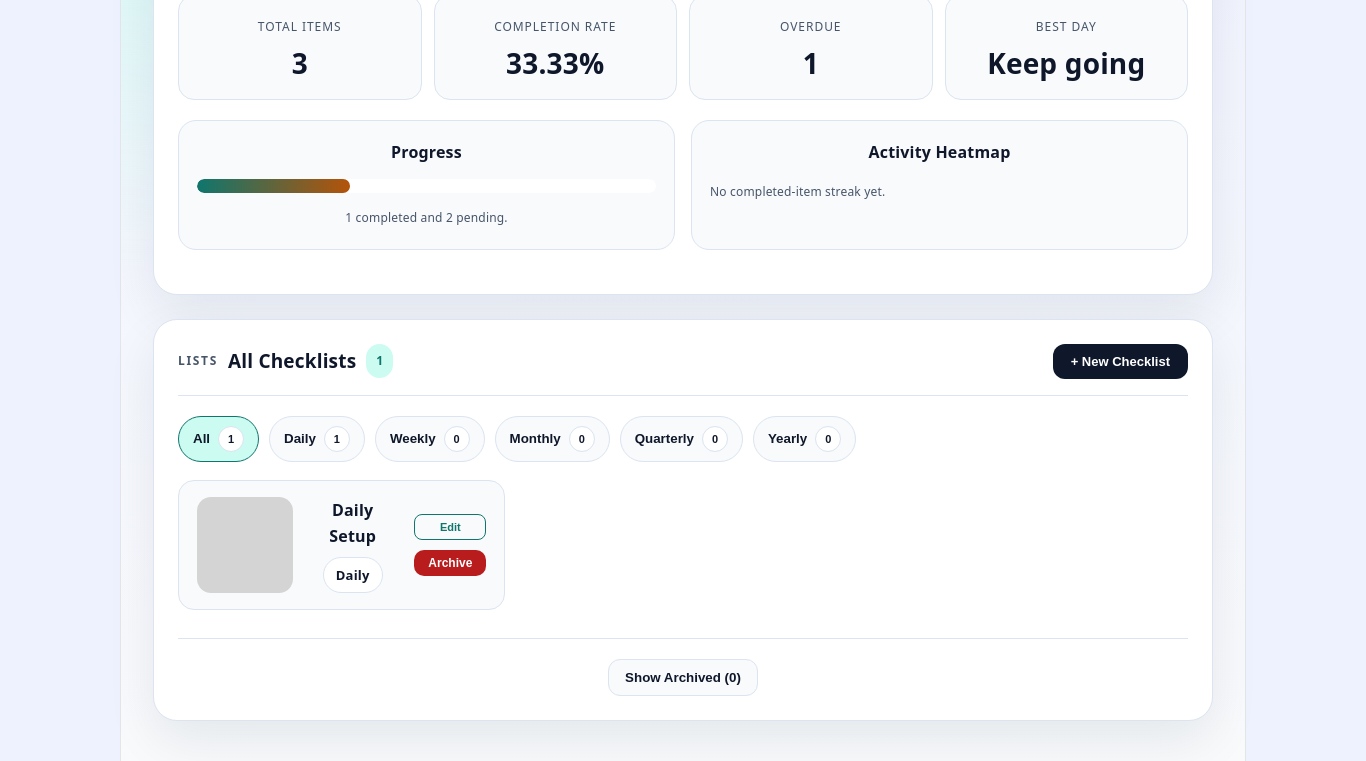
Test: Dashboard › edits a checklist and supports removing its image
(page scrolled)
Check: the text "Daily Setup" is shown, box [329,499,376,547]
Click the button "Edit". click: point(450, 527)
box: [414,514,486,540]
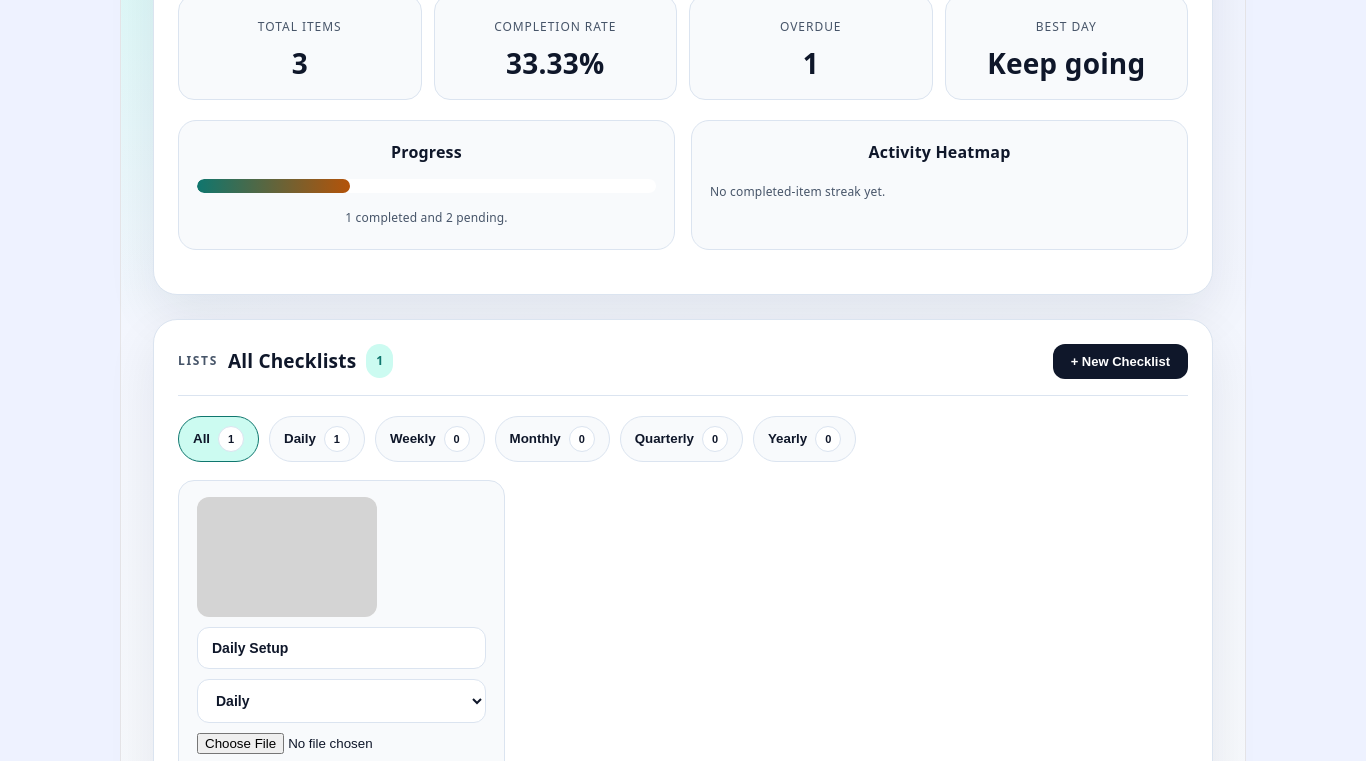
Replace the text in the field showing "Daily Setup" with "Morning Setup". click: point(342, 648)
box: [197,627,486,669]
(page scrolled)
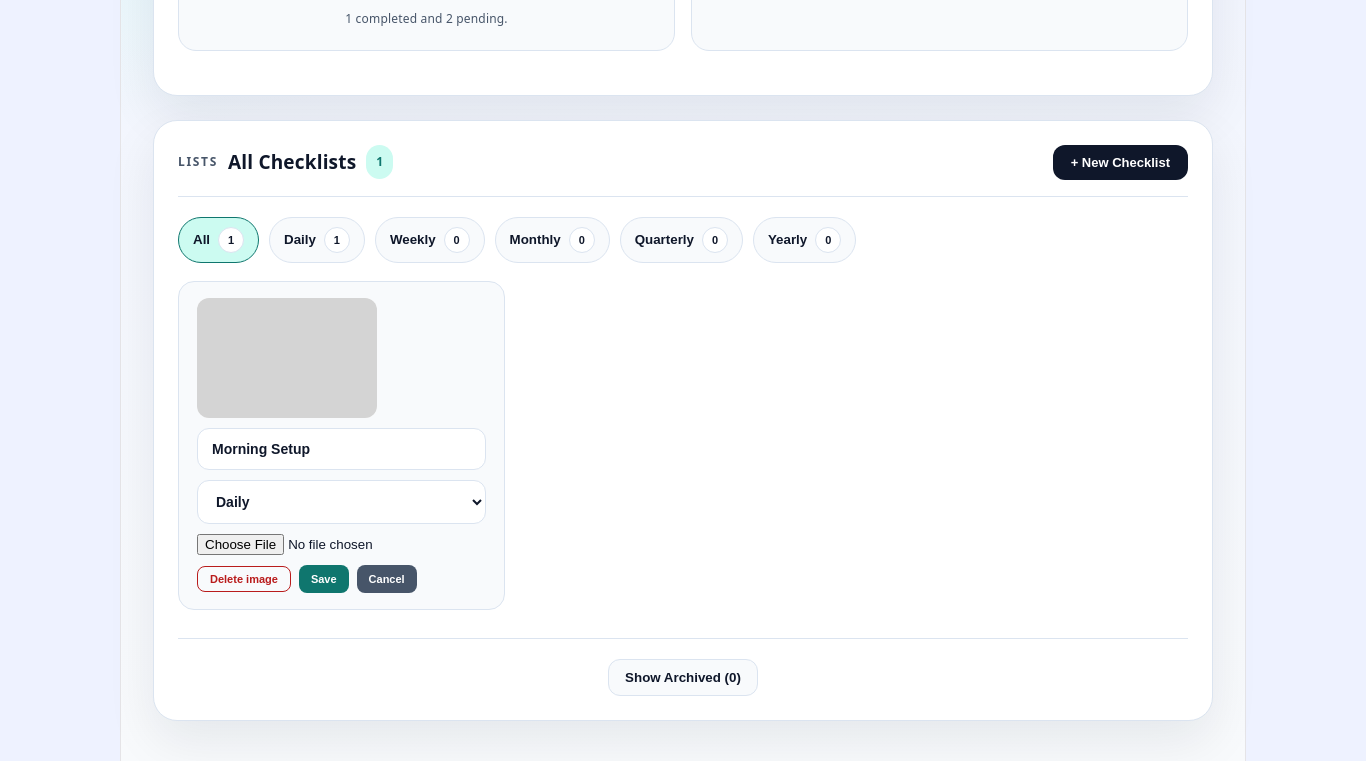
Click the button "Delete image". click: point(244, 579)
box: [197,566,291,592]
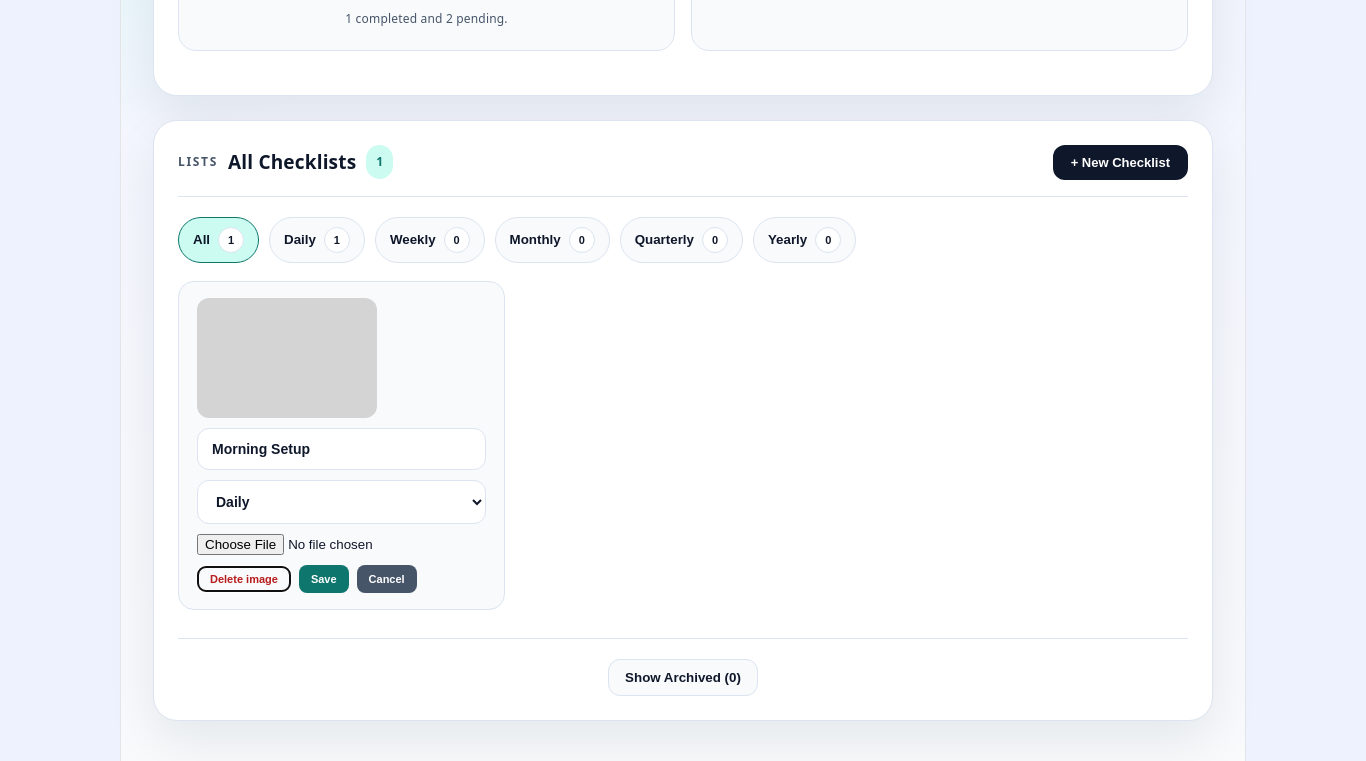
Click the button "Save". click: point(324, 579)
box: [299,565,349,593]
(page scrolled)
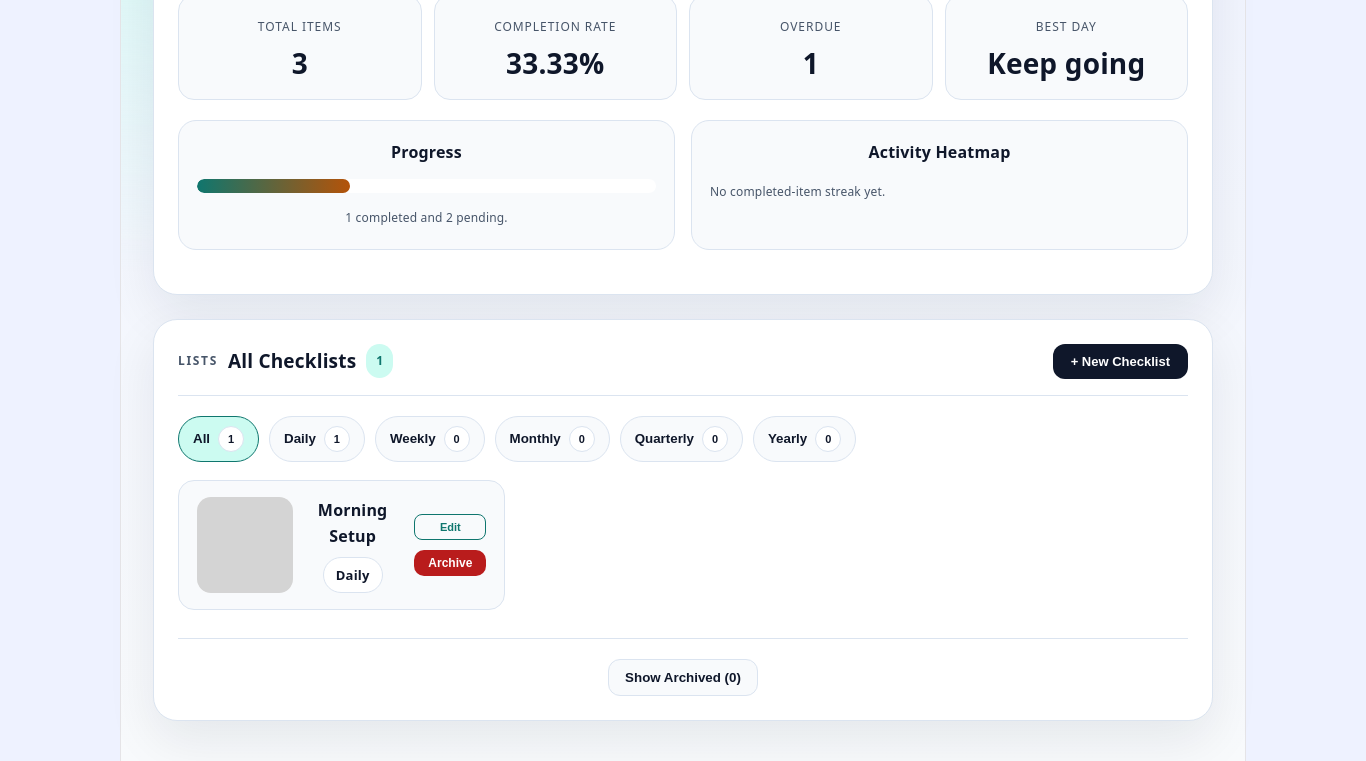
Check: the text "Morning Setup" is shown, box [318,499,388,547]
